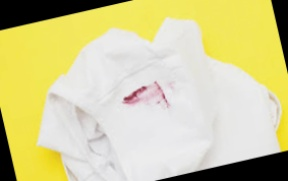lipstick: (119, 77, 171, 120)
